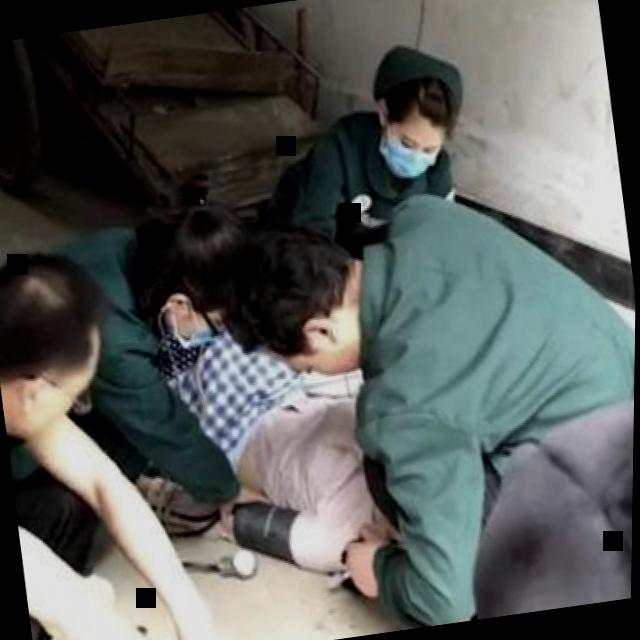Fall-Detected: (141, 286, 439, 618)
